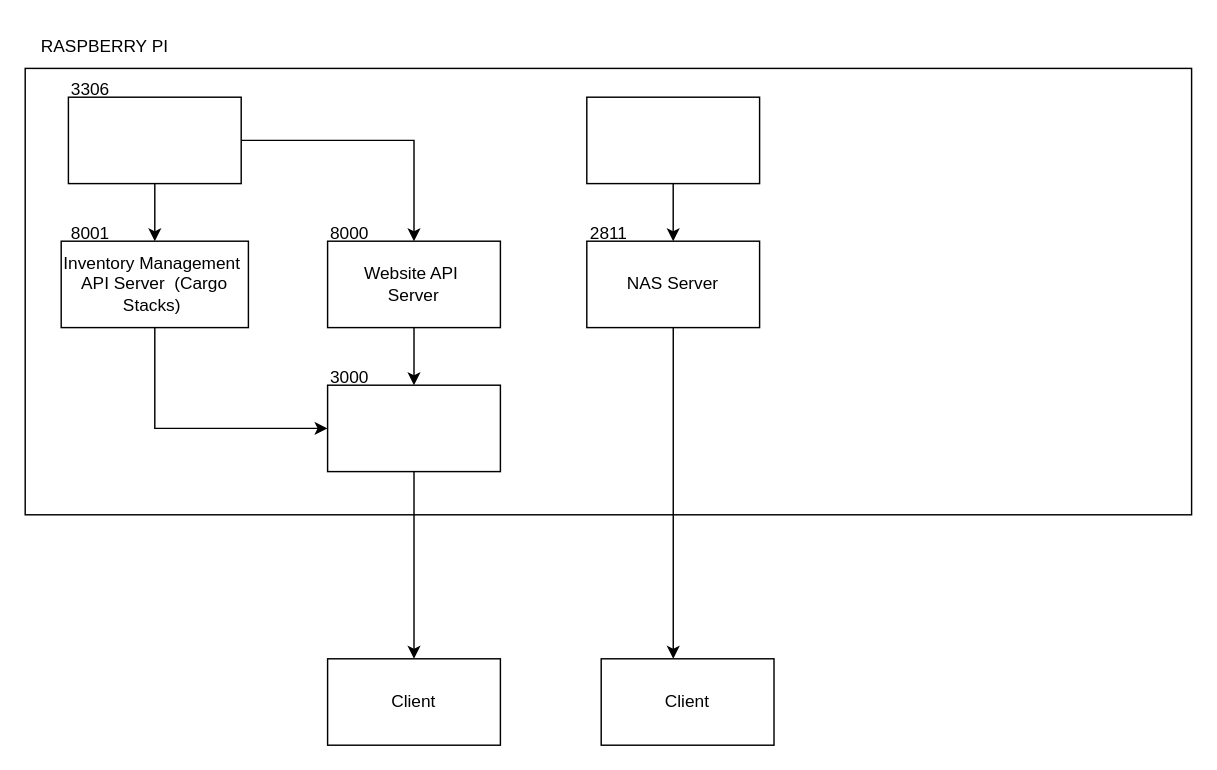
Some shapes in this 1217 by 770 pixel diagram are drawn without their labels. The centre of each missing label's shape, as x and y in pixels:
"Client Server" goes at (413,428).
"Database MYSQL container" goes at (154,140).
"On Server Storage" goes at (672,140).
